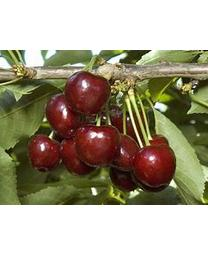cherry: (73, 124, 122, 167), (65, 72, 110, 114), (133, 146, 176, 187), (45, 97, 82, 136), (27, 133, 62, 172), (111, 133, 141, 172)
